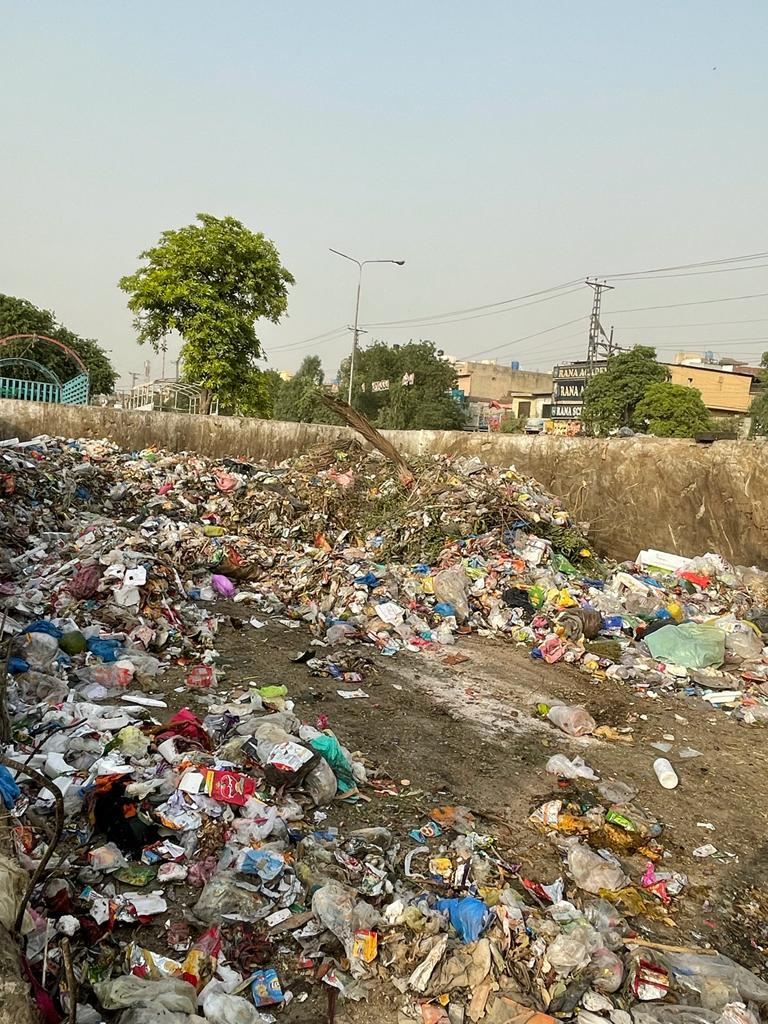garbage: (0, 443, 768, 1024)
